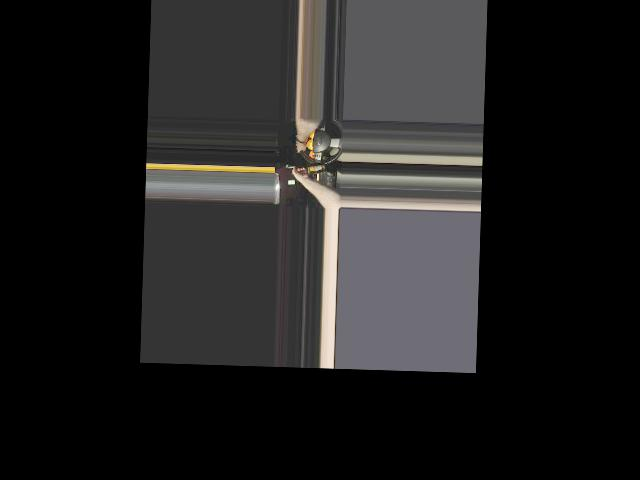beer: (292, 162, 325, 176)
